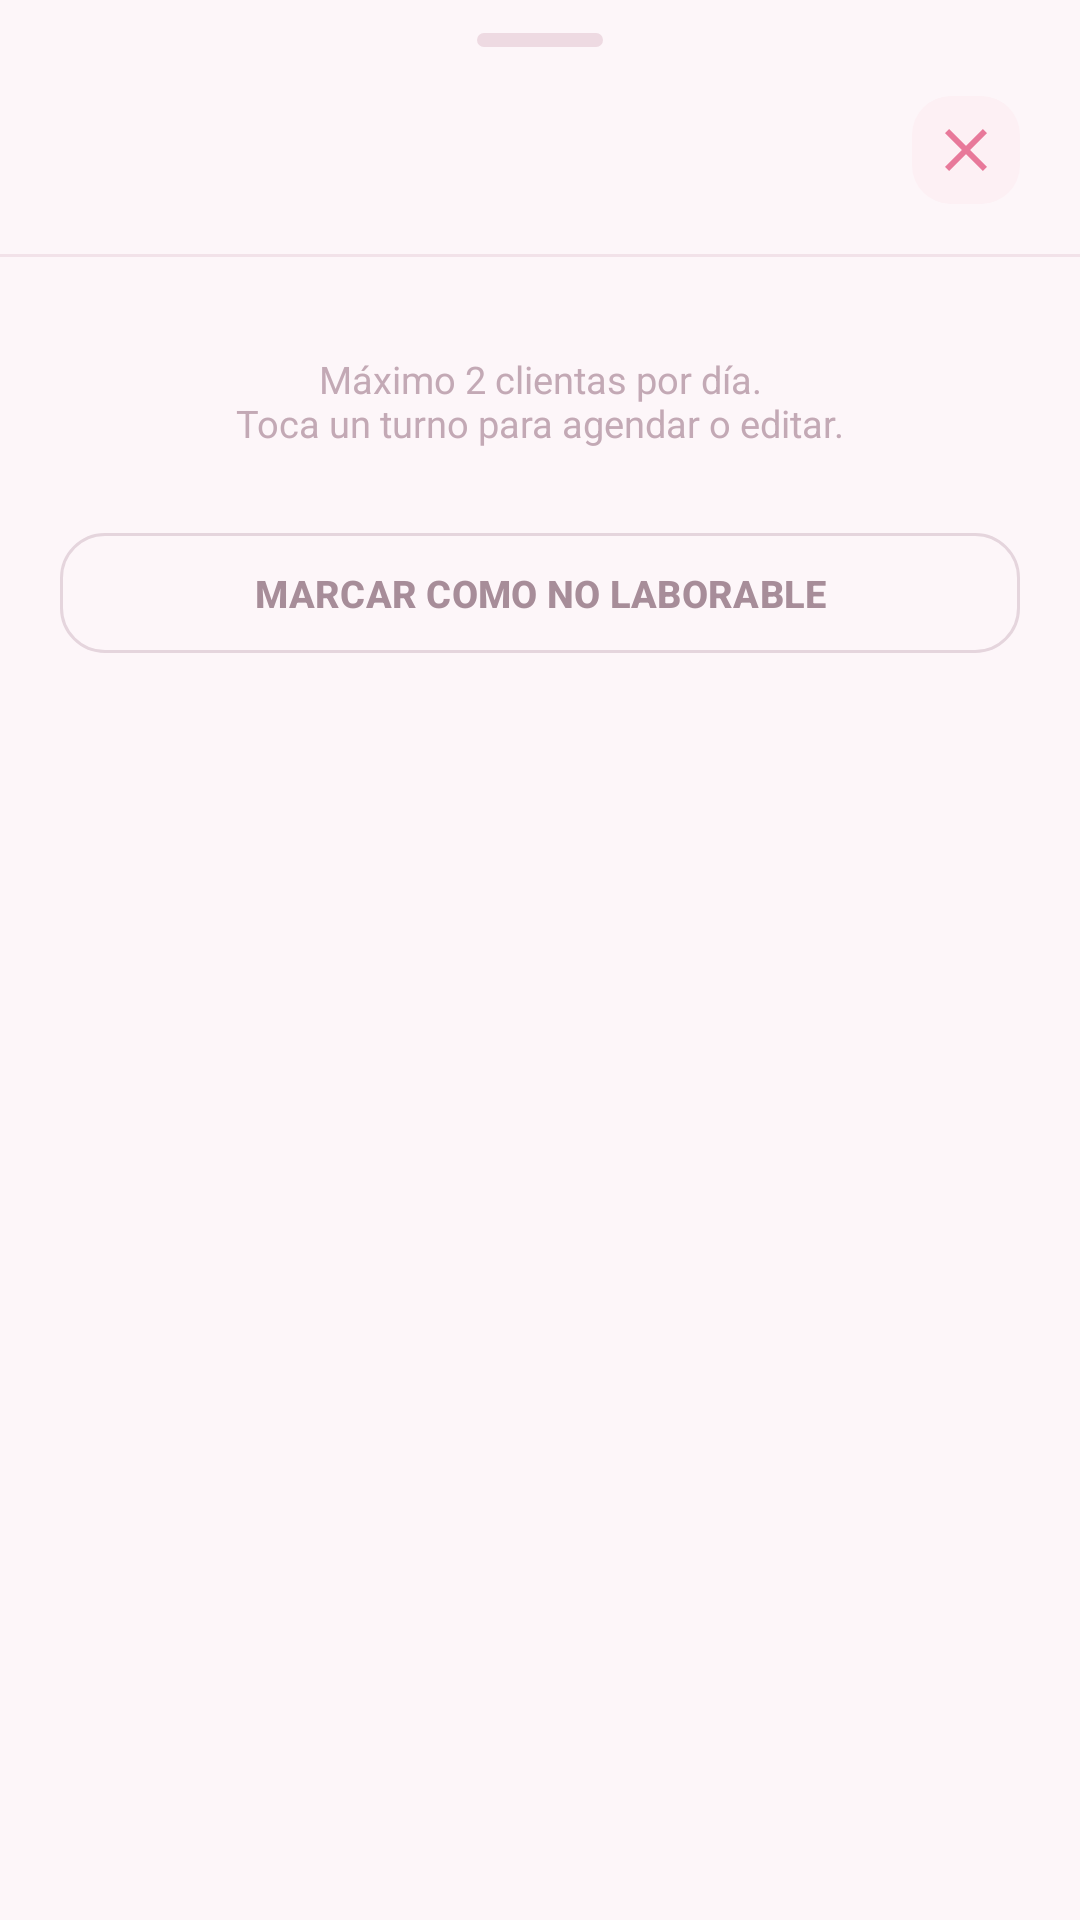

Icon bounding boxes for this 1080 × 1920 phone screenshot, format region(x1, y1, x2, y2):
Cerrar: region(945, 129, 987, 171)
